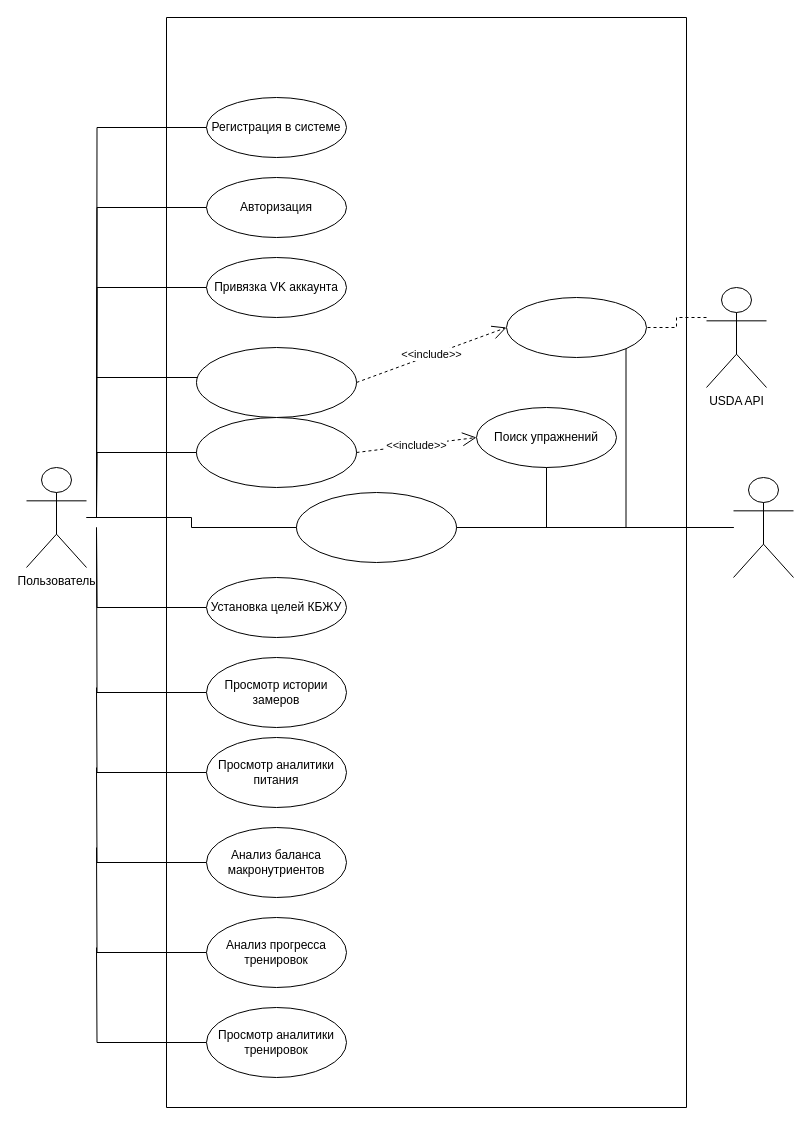
The diagram is 811 pixels wide and 1125 high, and some of its shapes have lost their labels. The centre of each missing label's shape, as x and y in pixels:
VK Bot: point 763,527
Добавление замеров (через VK Bot): point 376,527
Добавление питания (через VK Bot): point 276,382
Добавление тренировки (через VK Bot): point 276,452
Поиск продуктов (USDA API): point 576,327
